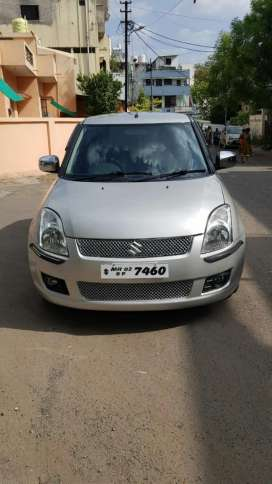nameplate: (101, 263, 169, 278)
